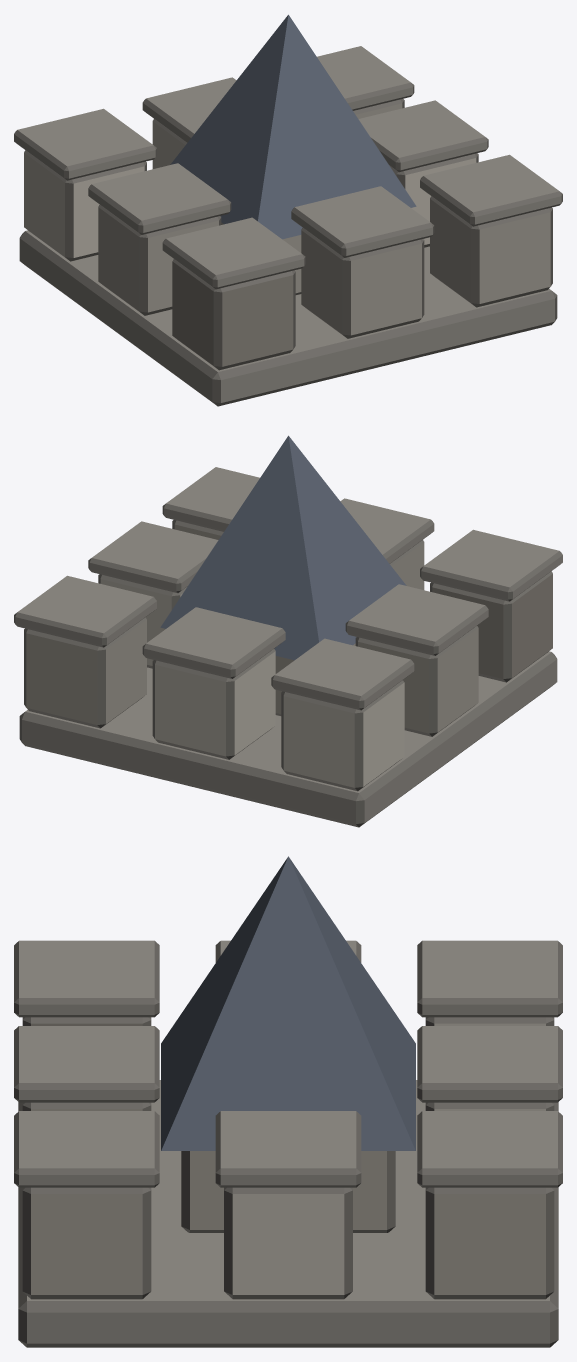
File: block_stone_cap_corner.glb
3 renders of one model, top to bottom at view 1: azimuth 30°, elevation 25°; view 2: azimuth 150°, elevation 25°; view 3: azimuth 270°, elevation 25°, orthographic. The views are drawn at different scales.
Visible parts, largest first — view 1: StoneCapCorner; view 2: StoneCapCorner; view 3: StoneCapCorner.
Boxes of the visible parts, x1,y1,x2,y2 form: StoneCapCorner: (14, 14, 562, 406); StoneCapCorner: (14, 435, 562, 827); StoneCapCorner: (14, 856, 562, 1347).
Bounding box in the file's own units: 1.28 × 0.98 × 1.28.
